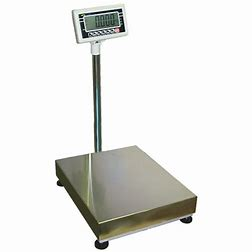Industrial Scale: (54, 3, 198, 250)
